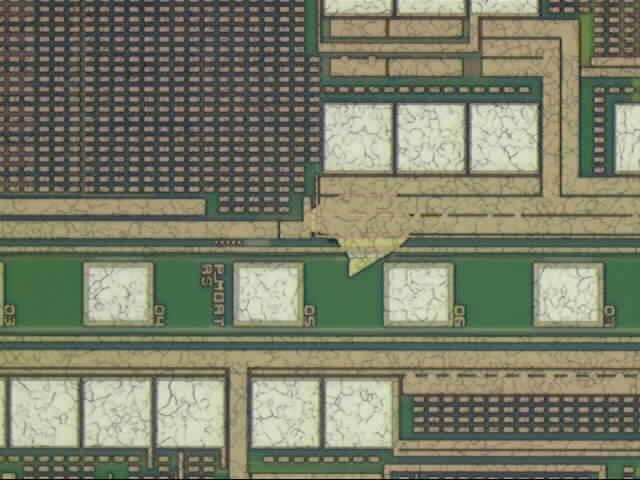BLOCK ETCH: (302, 183, 416, 282)
